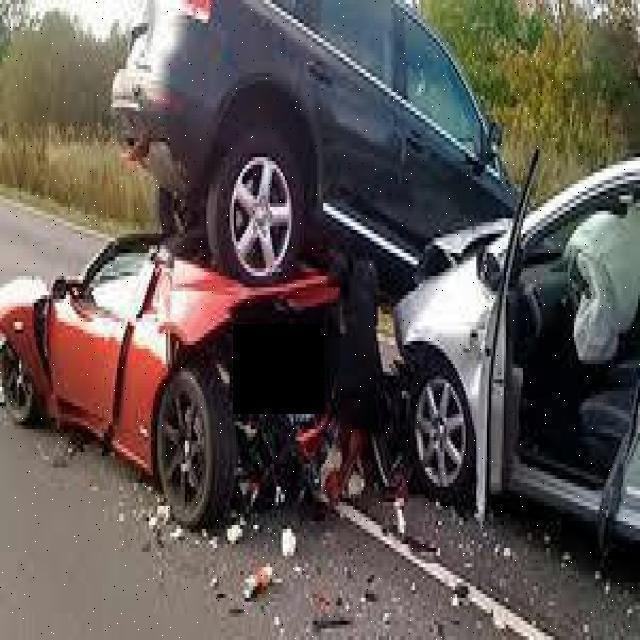multiple_accident: (109, 21, 513, 590)
